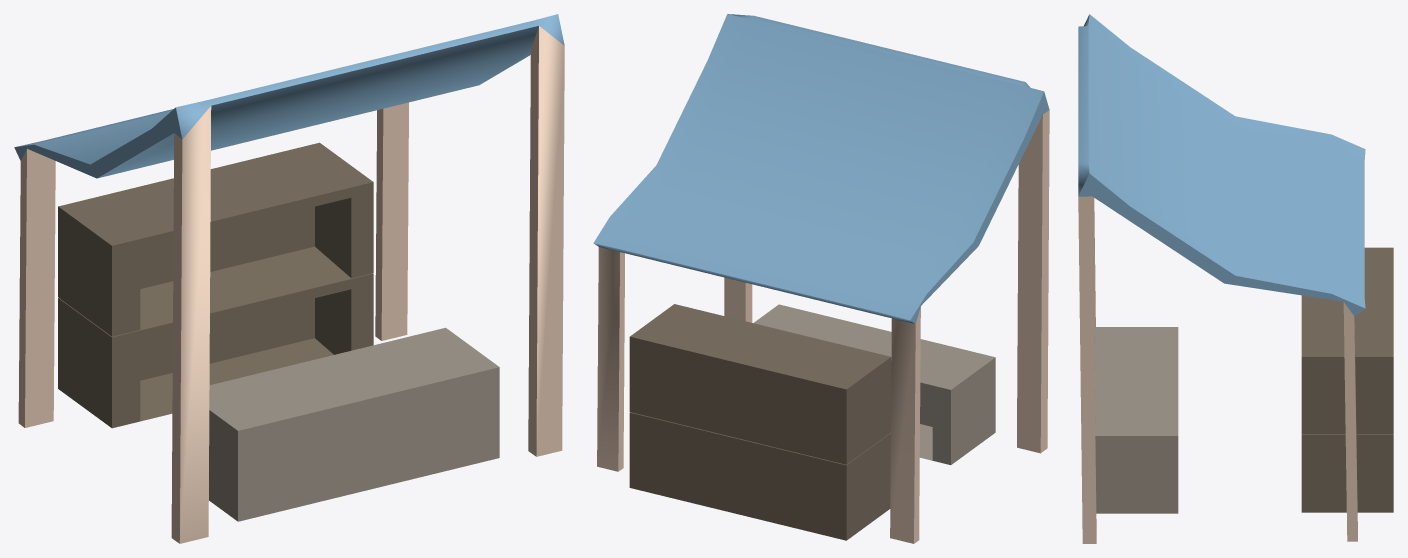
Rendered from marketstand_roof_variation_2.fbx.
3 renders of one model, left to right at view 1: azimuth 30°, elevation 25°; view 2: azimuth 150°, elevation 25°; view 3: azimuth 270°, elevation 25°, orthographic. The views are drawn at different scales.
Parts seen in each view (by area): view 1: pCube1, pCube2, pCube4, pCube3; view 2: pCube1, pCube4, pCube3, pCube2; view 3: pCube1, pCube2, pCube4, pCube3.
Boxes of the visible parts, x1,y1,x2,y2 form: pCube1: [14, 14, 564, 543]; pCube2: [209, 327, 499, 521]; pCube4: [58, 142, 373, 336]; pCube3: [58, 273, 373, 428]; pCube1: [593, 14, 1049, 543]; pCube4: [629, 304, 891, 464]; pCube3: [629, 412, 890, 540]; pCube2: [753, 304, 995, 464]; pCube1: [1078, 14, 1365, 543]; pCube2: [1094, 327, 1178, 513]; pCube4: [1301, 247, 1393, 434]; pCube3: [1301, 434, 1393, 512].
Bounding box in the file's own units: 20.33 × 22.04 × 17.
